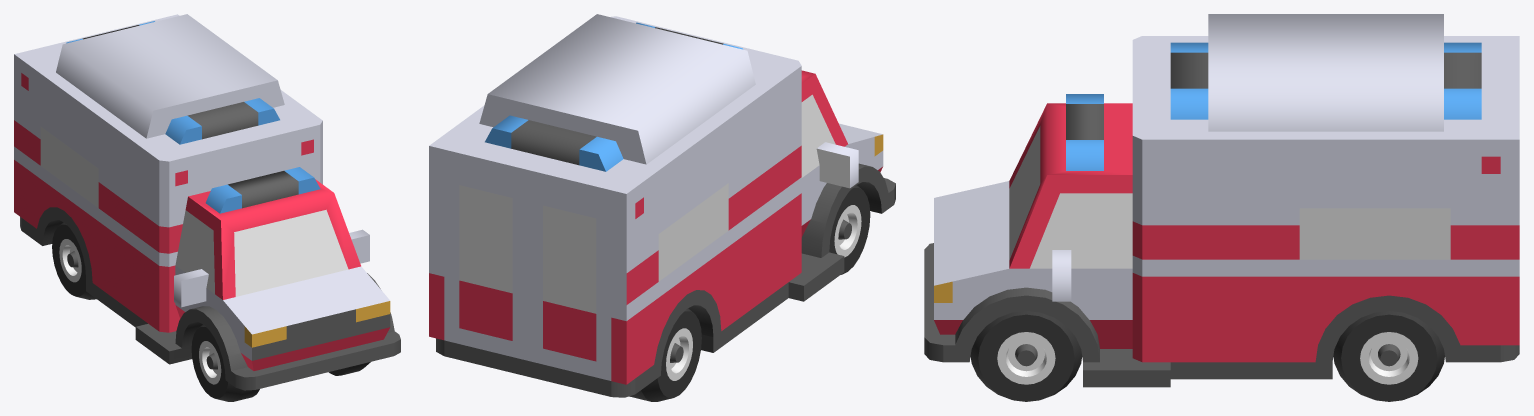
File: ambulance.glb
3 renders of one model, left to right at view 1: azimuth 30°, elevation 25°; view 2: azimuth 150°, elevation 25°; view 3: azimuth 270°, elevation 25°, orthographic. The views are drawn at different scales.
Visible parts, largest first — view 1: body, wheel_frontRight, wheel_backRight; view 2: body, doorRight, doorLeft, wheel_backRight, wheel_frontRight; view 3: body, wheel_backLeft, wheel_frontLeft.
Boxes of the visible parts, x1,y1,x2,y2 form: body: (14,14,400,390); wheel_frontRight: (191,324,259,401); wheel_backRight: (52,222,96,299); body: (429,14,895,397); doorRight: (527,186,611,380); doorLeft: (444,165,527,360); wheel_backRight: (629,308,701,401); wheel_frontRight: (829,185,870,274); body: (924,14,1519,387); wheel_backLeft: (1333,311,1444,401); wheel_frontLeft: (970,311,1082,401).
Bounding box in the file's own units: 1.5 × 1.8 × 3.15.
